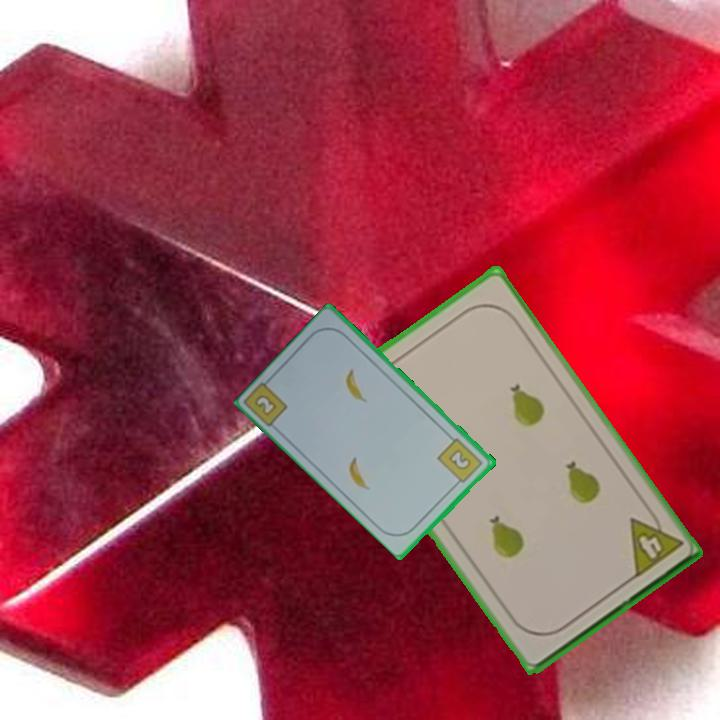2b: (434, 434, 486, 489), (251, 391, 280, 419)
4p: (625, 504, 686, 581)
